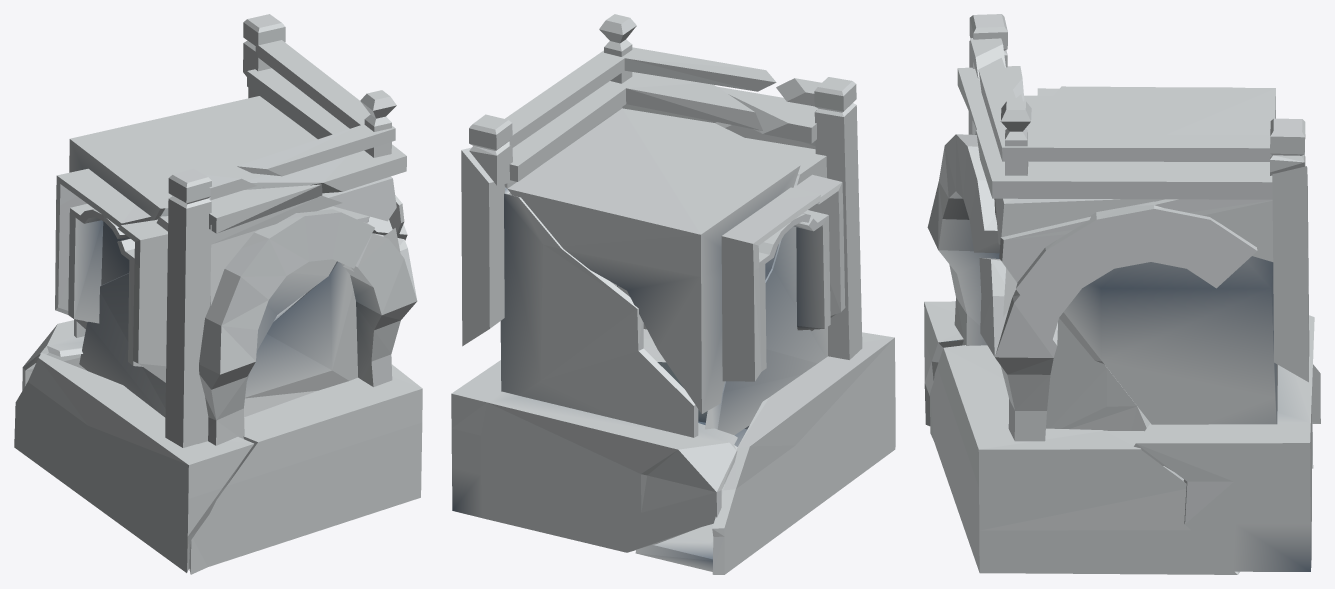
The model's file is FloatingShipDeckPieces.gltf.
3 views of the same model, side by side, from view 1: azimuth 30°, elevation 25°; view 2: azimuth 150°, elevation 25°; view 3: azimuth 270°, elevation 25° (orthographic). The views are drawn at different scales.
Parts seen in each view (by area): view 1: FloatingShipDeckPiece1, FloatingShipDeckPiece2, FloatingShipDeckPiece4, FloatingShipDeckPiece3; view 2: FloatingShipDeckPiece4, FloatingShipDeckPiece3, FloatingShipDeckPiece1, FloatingShipDeckPiece2; view 3: FloatingShipDeckPiece3, FloatingShipDeckPiece2, FloatingShipDeckPiece4, FloatingShipDeckPiece1.
Boxes of the visible parts, x1,y1,x2,y2 form: FloatingShipDeckPiece1: (14,168,374,572); FloatingShipDeckPiece2: (189,228,422,574); FloatingShipDeckPiece4: (55,14,406,329); FloatingShipDeckPiece3: (22,87,407,390); FloatingShipDeckPiece4: (469,14,820,413); FloatingShipDeckPiece3: (451,147,737,552); FloatingShipDeckPiece1: (635,77,895,574); FloatingShipDeckPiece2: (610,281,749,484); FloatingShipDeckPiece3: (999,166,1314,571); FloatingShipDeckPiece2: (930,257,1239,574); FloatingShipDeckPiece4: (976,58,1305,244); FloatingShipDeckPiece1: (924,14,1320,468).
Size of the model in its own units: 3.79 by 5.37 by 4.26.
